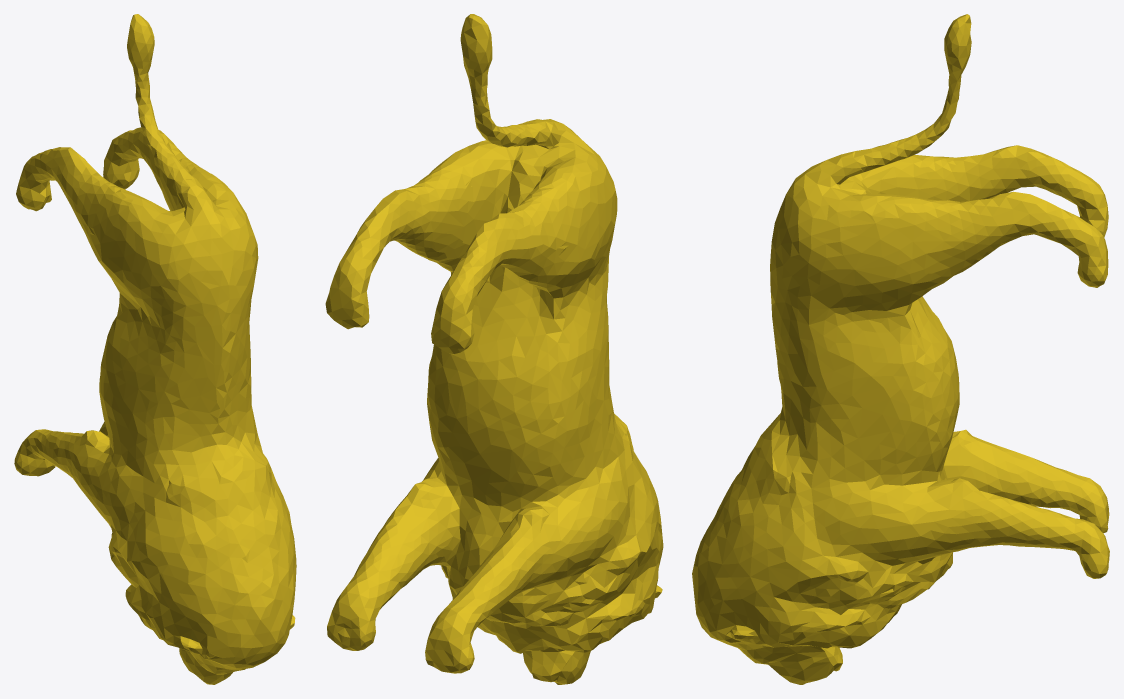
Rendered from lion.obj.
The picture shows the model from 3 angles, left to right: view 1: azimuth 30°, elevation 25°; view 2: azimuth 150°, elevation 25°; view 3: azimuth 270°, elevation 25°; orthographic projection. The views are drawn at different scales.
Parts seen in each view (by area): view 1: obj_0; view 2: obj_0; view 3: obj_0.
Part boxes in pixels (left/top/right/bottom): obj_0: left=14, top=14, right=296, bottom=684; obj_0: left=325, top=14, right=663, bottom=684; obj_0: left=692, top=14, right=1109, bottom=684.
Bounding box in the file's own units: 40.72 × 150 × 84.88.
